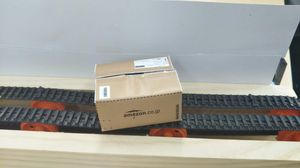box1: (92, 53, 183, 132)
